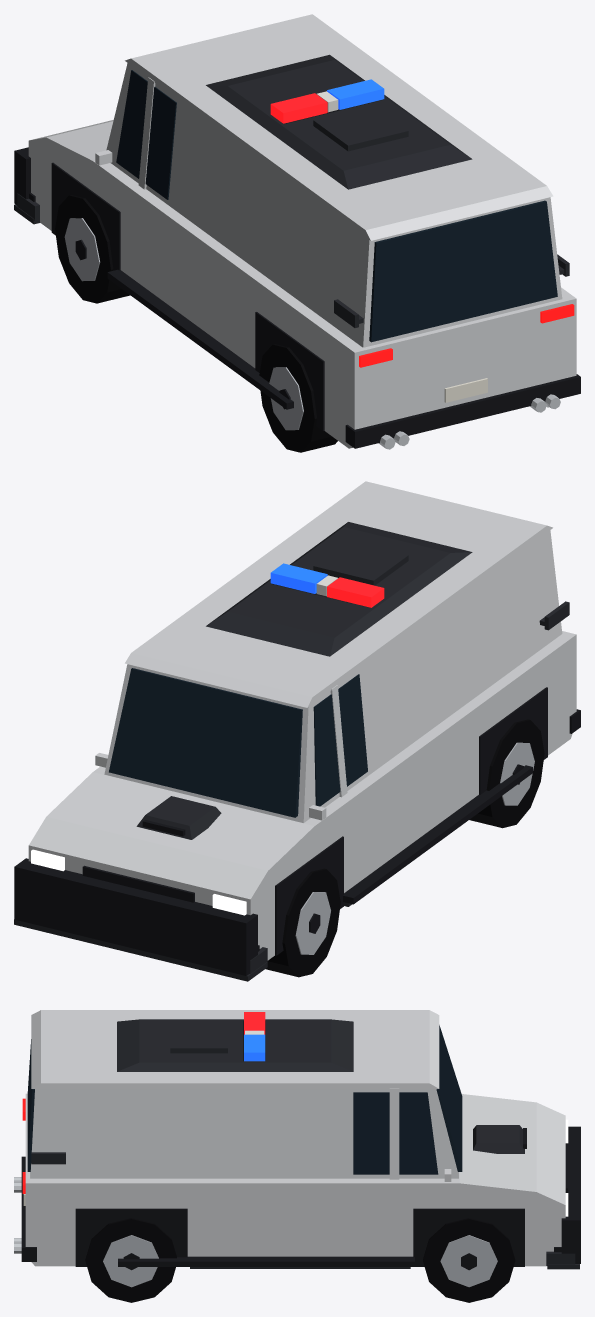
File: car_swat.glb
3 views of the same model, one above another, from view 1: azimuth 30°, elevation 25°; view 2: azimuth 150°, elevation 25°; view 3: azimuth 270°, elevation 25° (orthographic). The views are drawn at different scales.
Visible parts, largest first — view 1: car_swat__body, car_swat__mod_roof, car_swat__wheel_fl, car_swat__wheel_rl, car_swat__mod_exhaust, car_swat__mod_spoiler; view 2: car_swat__body, car_swat__mod_roof, car_swat__wheel_fl, car_swat__wheel_rl, car_swat__mod_hood, car_swat__mod_bumper; view 3: car_swat__body, car_swat__mod_roof, car_swat__wheel_fr, car_swat__wheel_rr, car_swat__mod_hood, car_swat__mod_bumper, car_swat__mod_spoiler, car_swat__mod_skirts.
Part boxes in pixels (x1=…): car_swat__body: x1=14, y1=14, x2=580, y2=448; car_swat__mod_roof: x1=206, y1=54, x2=472, y2=189; car_swat__wheel_fl: x1=55, y1=195, x2=130, y2=303; car_swat__wheel_rl: x1=259, y1=344, x2=337, y2=452; car_swat__mod_exhaust: x1=378, y1=394, x2=560, y2=449; car_swat__mod_spoiler: x1=334, y1=254, x2=569, y2=327; car_swat__body: x1=14, y1=481, x2=580, y2=975; car_swat__mod_roof: x1=206, y1=522, x2=472, y2=656; car_swat__wheel_fl: x1=265, y1=868, x2=340, y2=977; car_swat__wheel_rl: x1=469, y1=719, x2=544, y2=828; car_swat__mod_hood: x1=136, y1=796, x2=221, y2=839; car_swat__mod_bumper: x1=14, y1=919, x2=267, y2=981; car_swat__body: x1=21, y1=1010, x2=580, y2=1266; car_swat__mod_roof: x1=117, y1=1019, x2=353, y2=1071; car_swat__wheel_fr: x1=423, y1=1218, x2=515, y2=1302; car_swat__wheel_rr: x1=85, y1=1218, x2=176, y2=1302; car_swat__mod_hood: x1=473, y1=1125, x2=526, y2=1153; car_swat__mod_bumper: x1=546, y1=1251, x2=579, y2=1269; car_swat__mod_spoiler: x1=31, y1=1152, x2=65, y2=1164; car_swat__mod_skirts: x1=190, y1=1267, x2=410, y2=1268.
Size of the model in its own units: 2.44 by 2.57 by 5.88.
